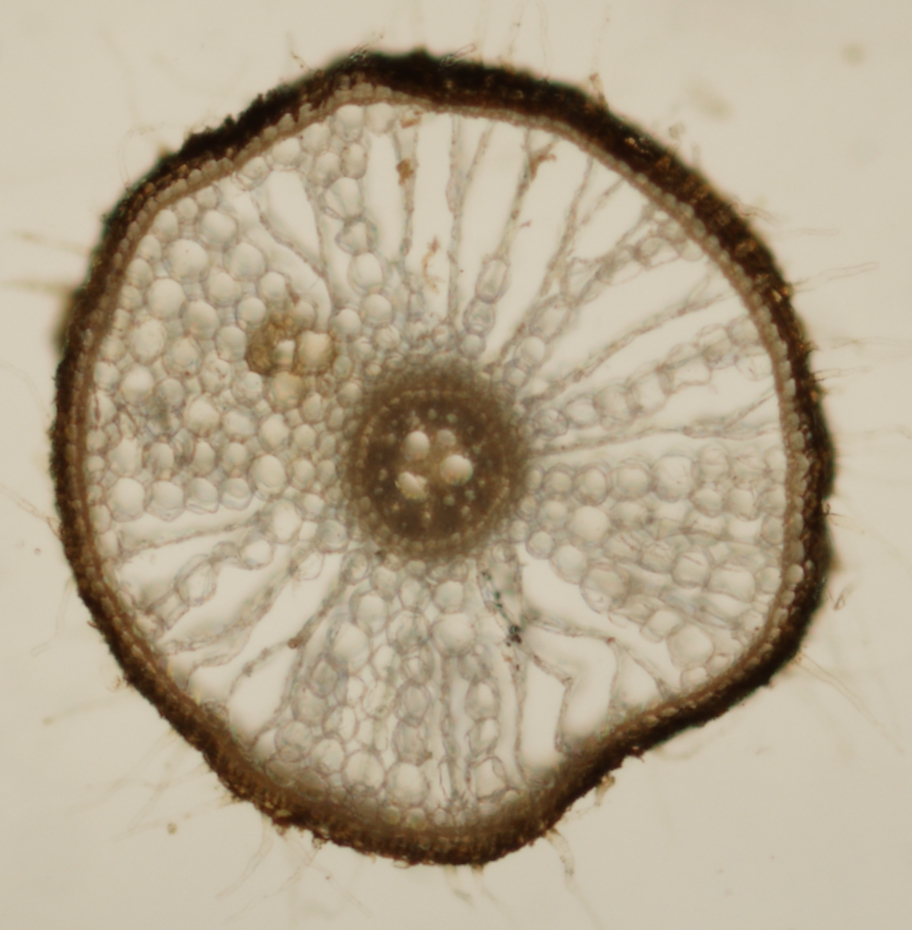lm: (438, 453, 474, 486), (395, 471, 428, 500), (400, 431, 429, 462), (435, 429, 456, 447)
